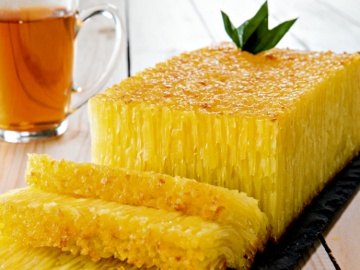bika_ambon: (77, 90, 285, 256)
